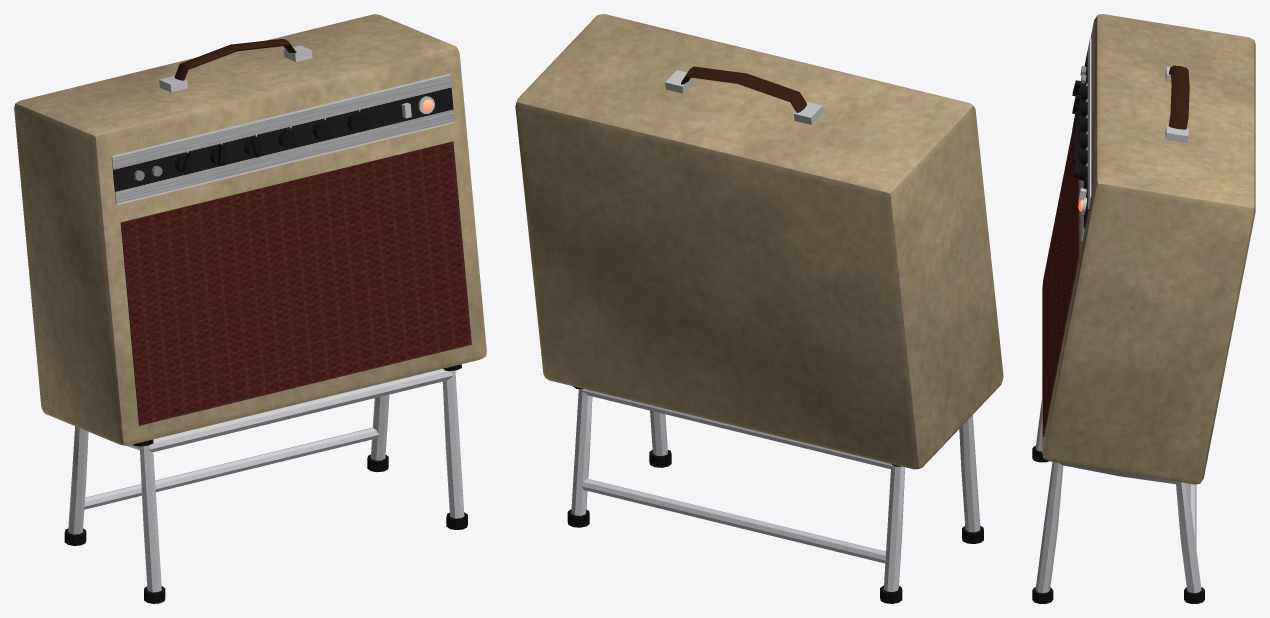
File: combo-amp.glb
3 views of the same model, side by side, from view 1: azimuth 30°, elevation 25°; view 2: azimuth 150°, elevation 25°; view 3: azimuth 270°, elevation 25° (orthographic). The views are drawn at different scales.
Visible parts, largest first — view 1: combo-amp; view 2: combo-amp; view 3: combo-amp.
Part boxes in pixels (<box>): combo-amp: <box>14,14,486,603</box>; combo-amp: <box>515,14,1003,603</box>; combo-amp: <box>1032,14,1255,603</box>.
Size of the model in its own units: 0.62 by 0.7485 by 0.3405.
2 materials, 1 textured.
